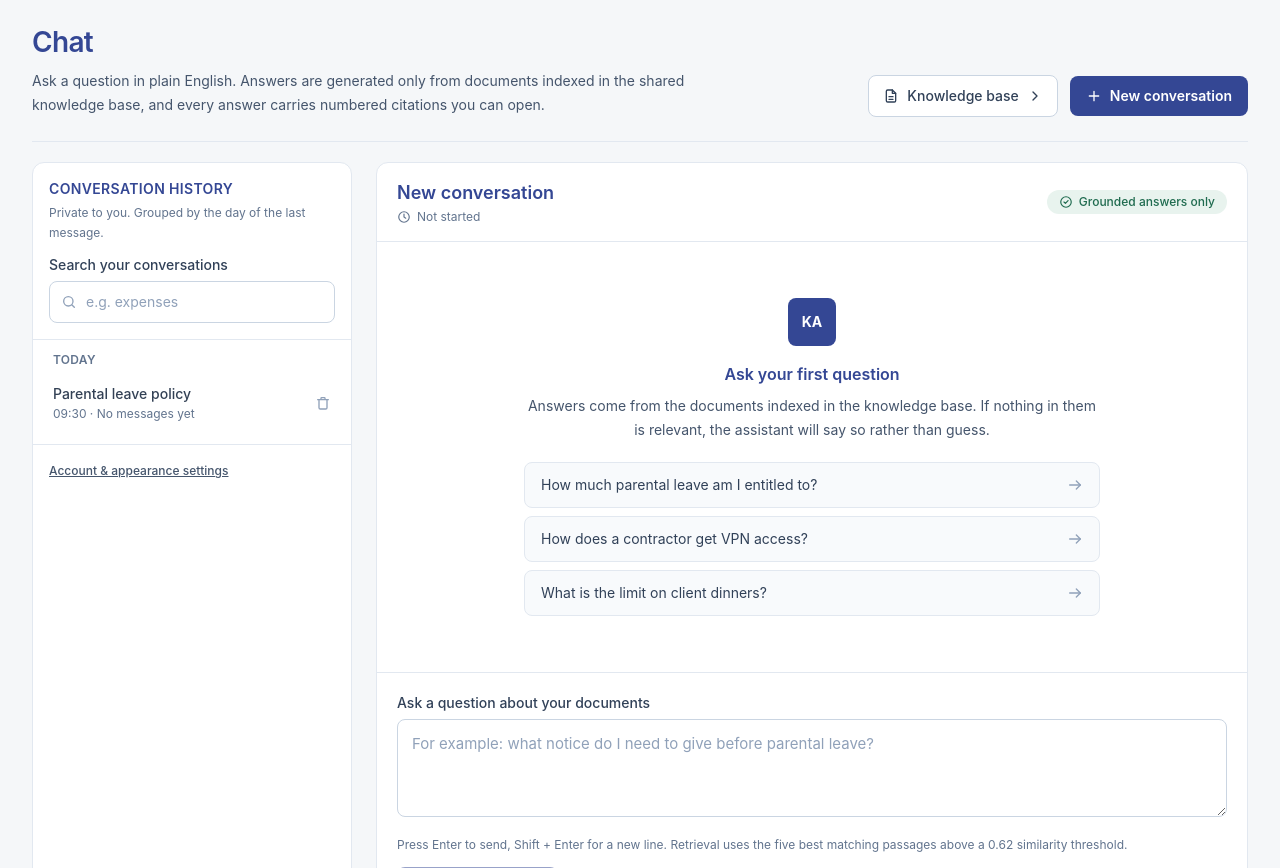
Test case: Chat screen › conversation history: list, open, search, delete › deleting the currently open conversation resets the panel to a new empty conversation
Click the text "Parental leave policy".
click(122, 394)  # box [53, 385, 191, 402]
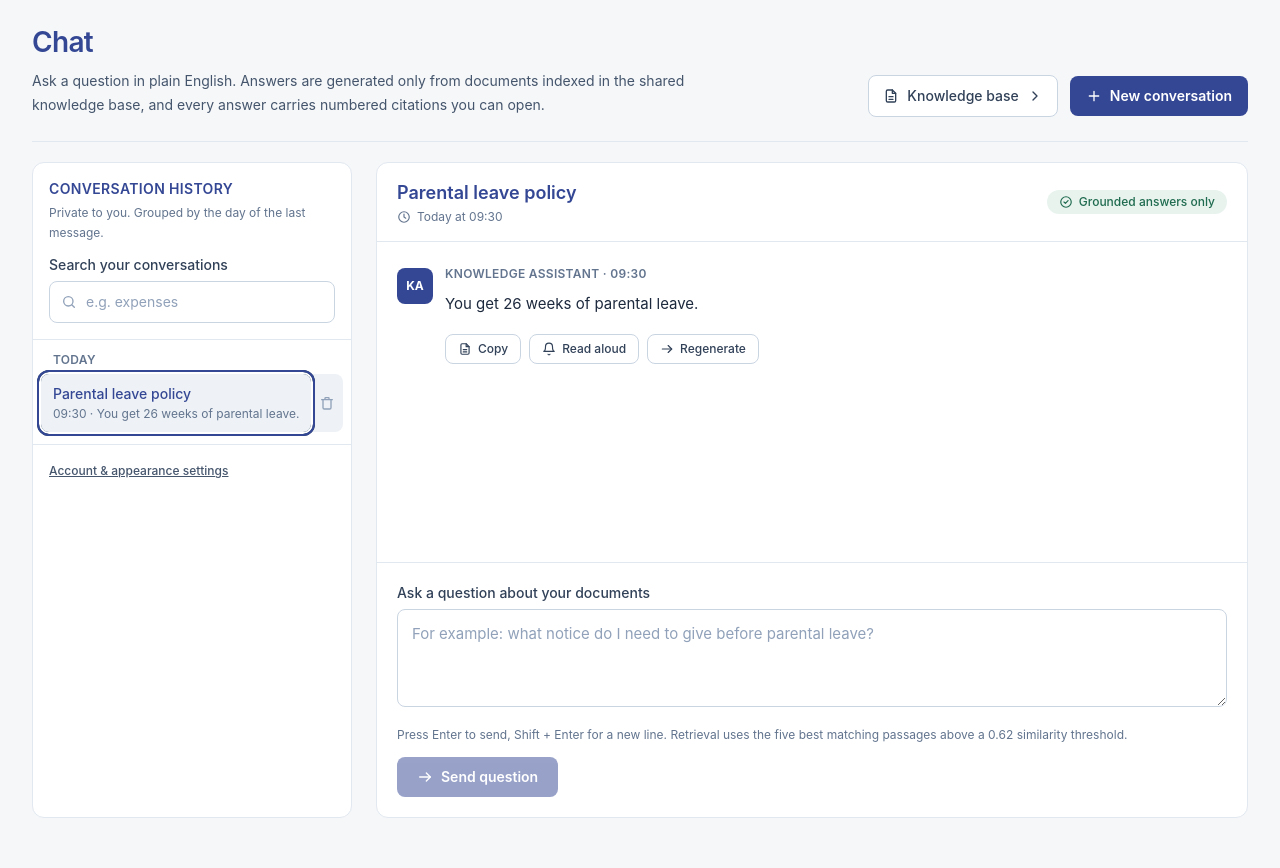
Expected: the text "You get 26 weeks of parental leave." is shown, [445, 294, 698, 313]
Click the button named "delete conversation: parental leave policy".
click(327, 403)  # box [311, 387, 343, 419]
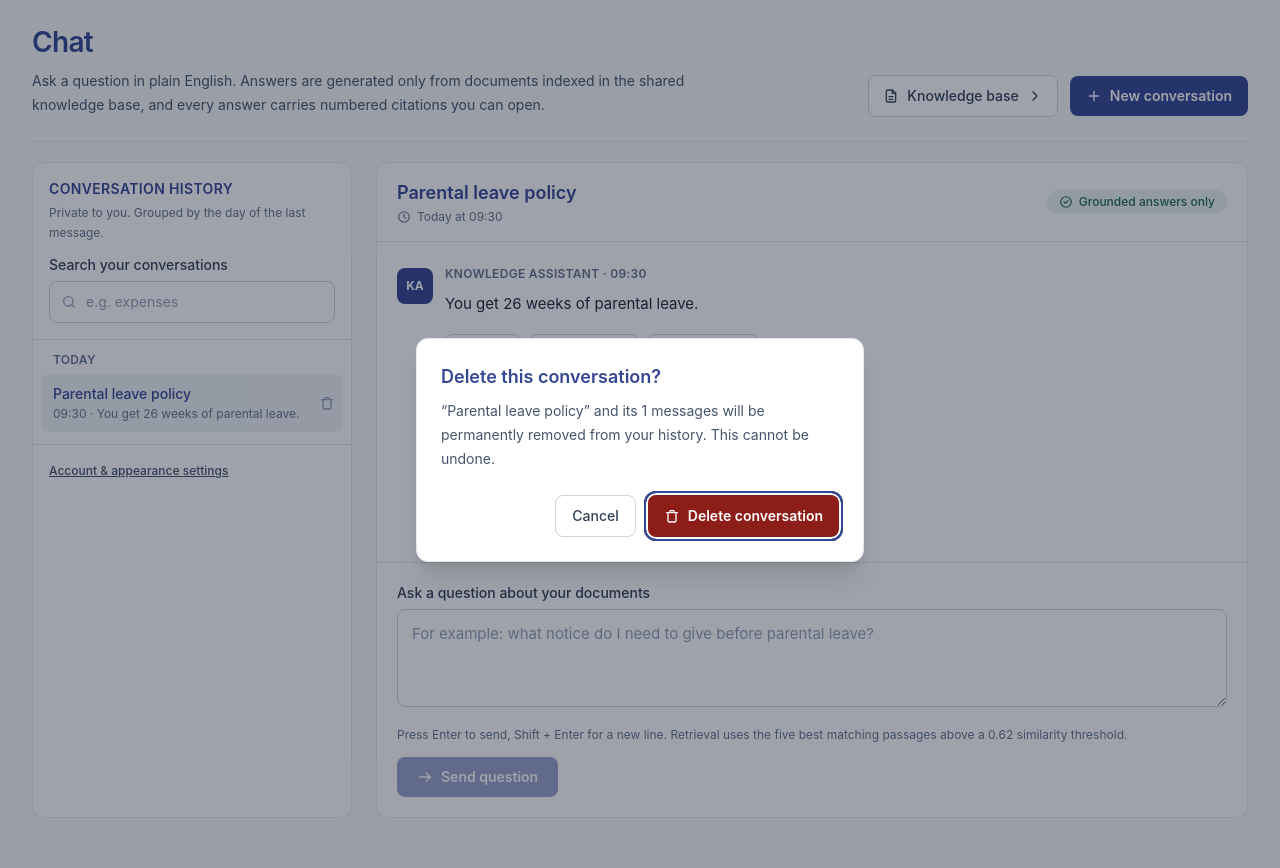
Click the button "Delete conversation".
click(743, 516)  # box [648, 495, 839, 537]
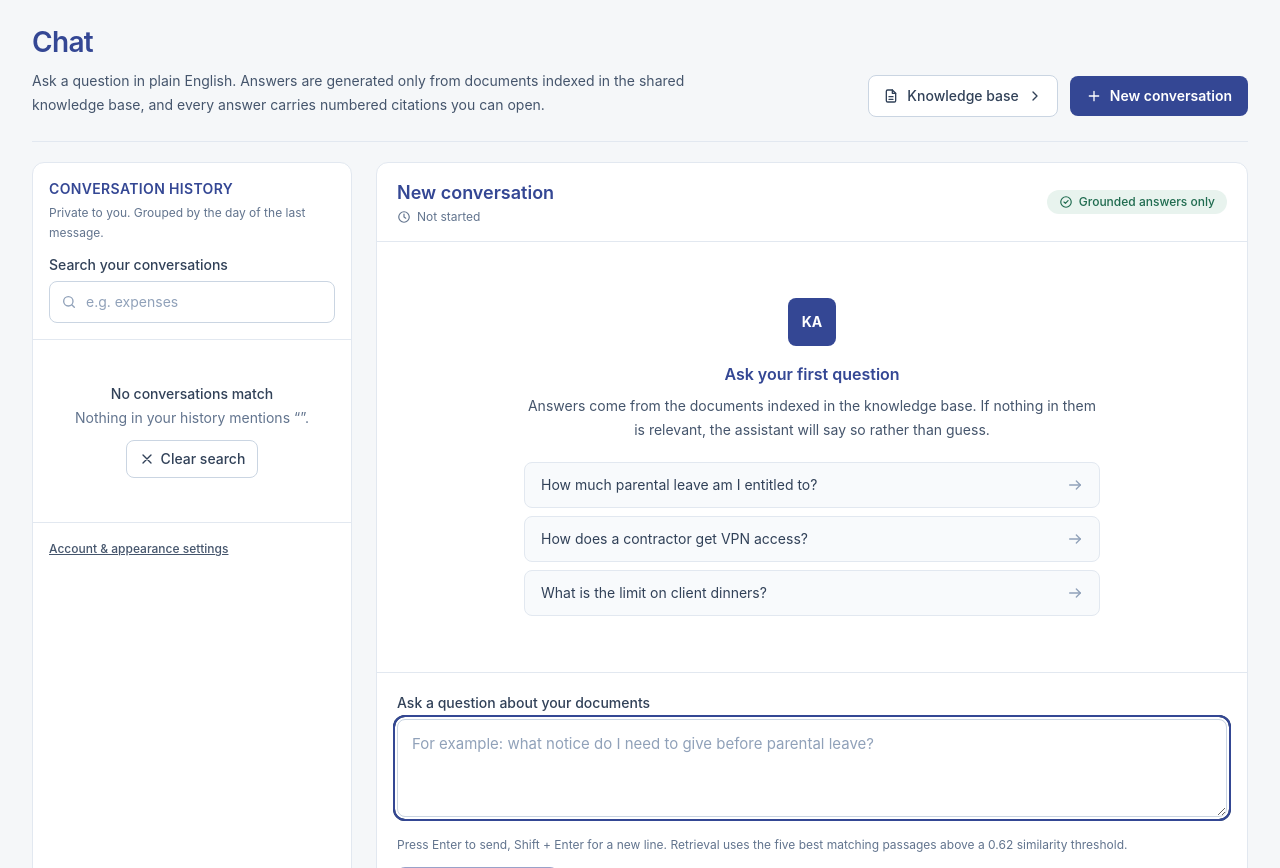
Expected: the heading "Ask your first question" is shown, [724, 364, 900, 384]
Expected: the button "You get 26 weeks of parental leave." is gone
